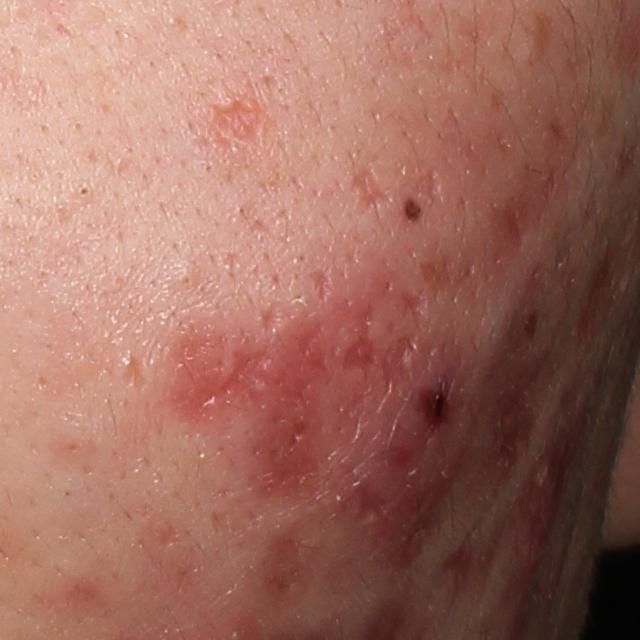atrophic_scar: (193, 348, 312, 409), (415, 254, 482, 303), (335, 303, 377, 376), (210, 105, 263, 157), (494, 193, 534, 250), (351, 169, 388, 219), (354, 473, 390, 521), (398, 286, 432, 333), (412, 165, 447, 207), (291, 315, 321, 362), (306, 267, 333, 303), (258, 301, 283, 338), (123, 358, 149, 392)
comedo: (169, 262, 199, 290), (77, 184, 91, 198)
nevus: (401, 193, 431, 224)
nodule: (333, 339, 474, 565)
